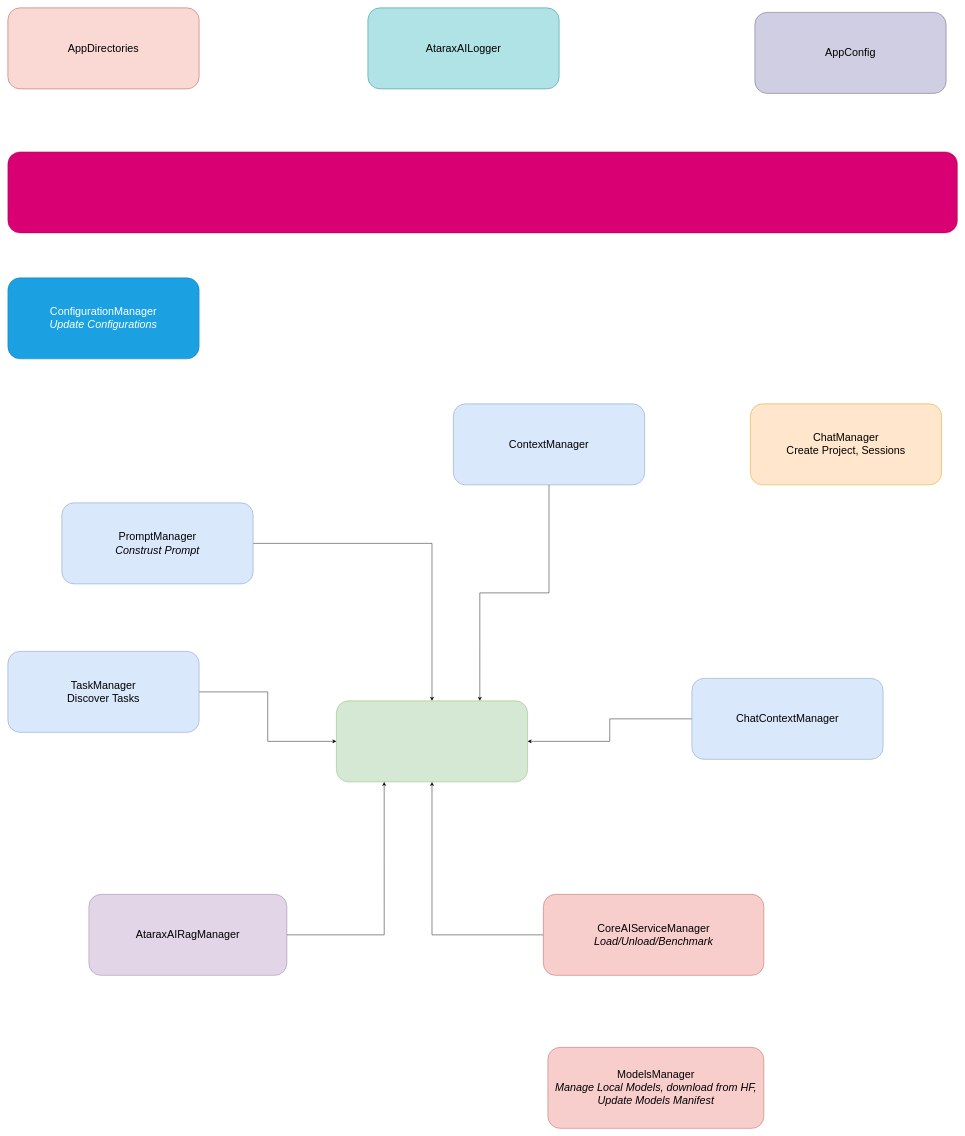
Image size: 965x1136. Some labels were removed from this diagram. The shapes that lost their labels are listed below. From the top down, each one's box as (x1, y1, x2, y2) in pixels, then its label:
(7, 151, 957, 233): Vault Manager
(336, 700, 528, 782): ChainRunner (async) Runs Chain
